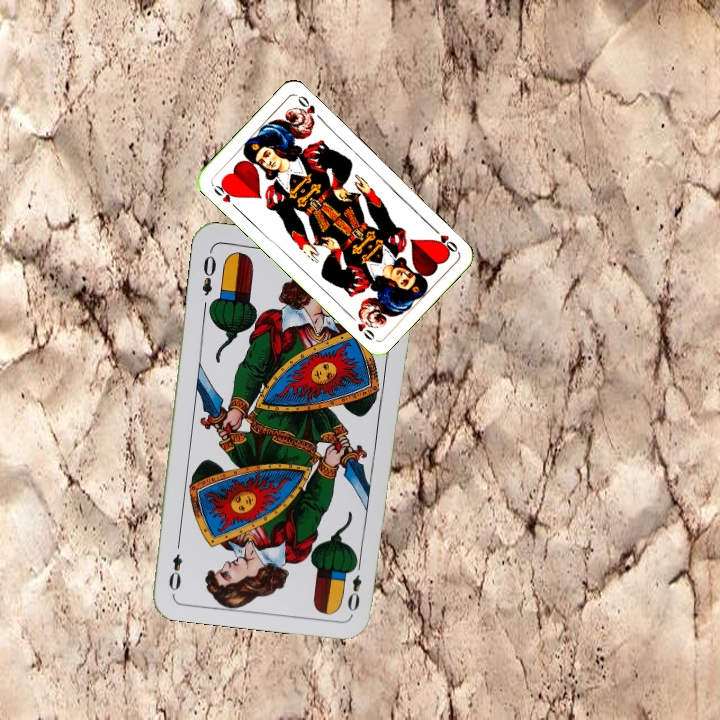EO: (344, 556, 364, 614), (197, 251, 219, 299)
HO: (208, 179, 241, 212), (428, 223, 460, 255)
